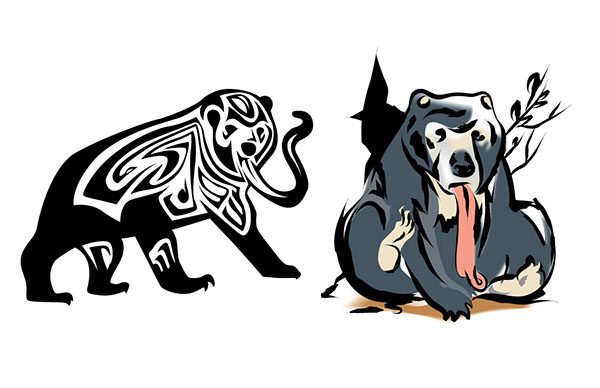dog: (5, 99, 308, 294), (345, 58, 558, 320)
